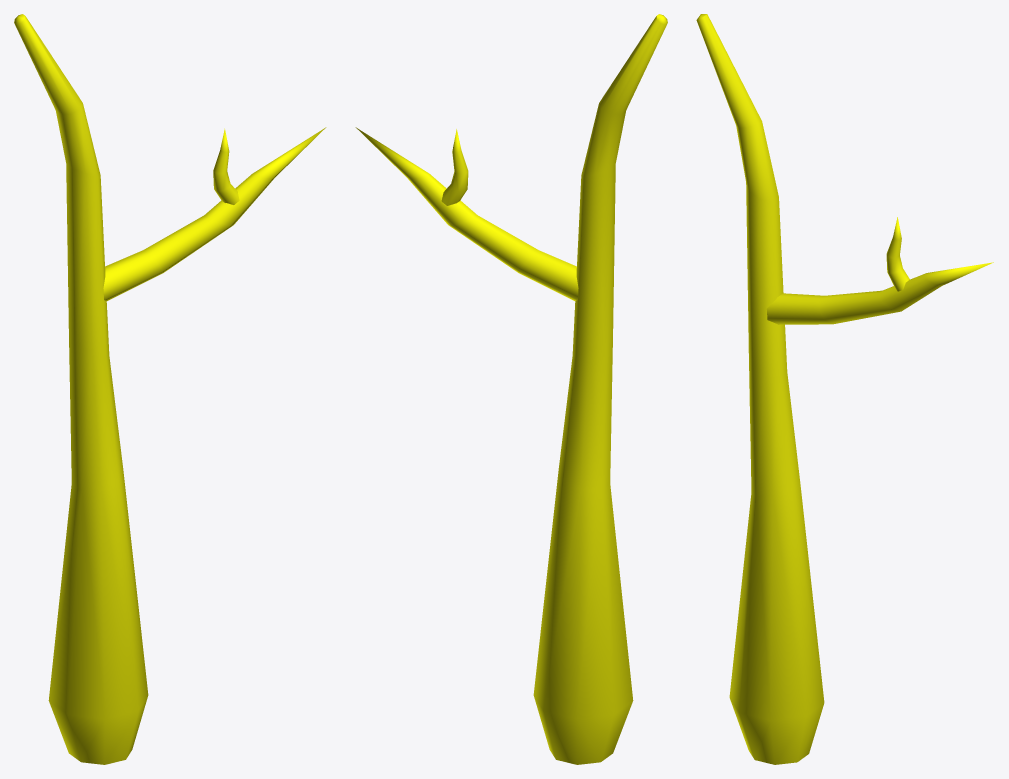
File: kaykit-tree-dead-medium.glb
3 views of the same model, side by side, from view 1: azimuth 30°, elevation 25°; view 2: azimuth 150°, elevation 25°; view 3: azimuth 330°, elevation 25° (orthographic). The views are drawn at different scales.
Parts seen in each view (by area): view 1: tree_dead_medium; view 2: tree_dead_medium; view 3: tree_dead_medium.
Part boxes in pixels (box(x1,y1,x2,y2)): tree_dead_medium: box(14, 14, 326, 764); tree_dead_medium: box(355, 14, 667, 764); tree_dead_medium: box(696, 14, 993, 764).
Size of the model in its own units: 1.81 by 4.19 by 0.4669.
